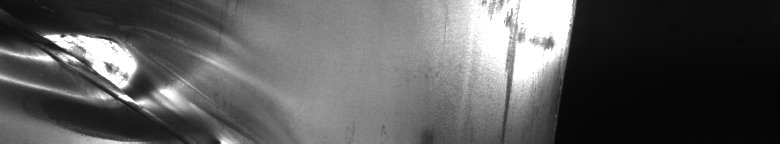ke: (4, 24, 232, 136)
